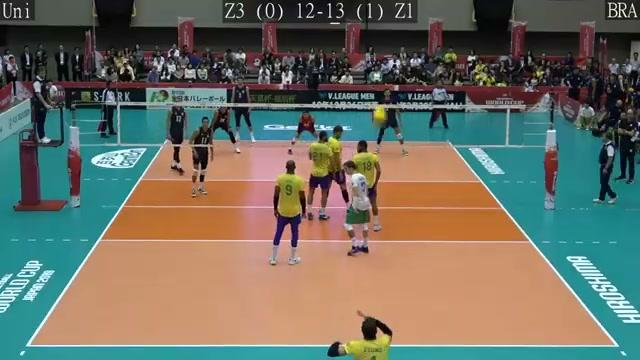ball: (371, 107, 386, 123)
